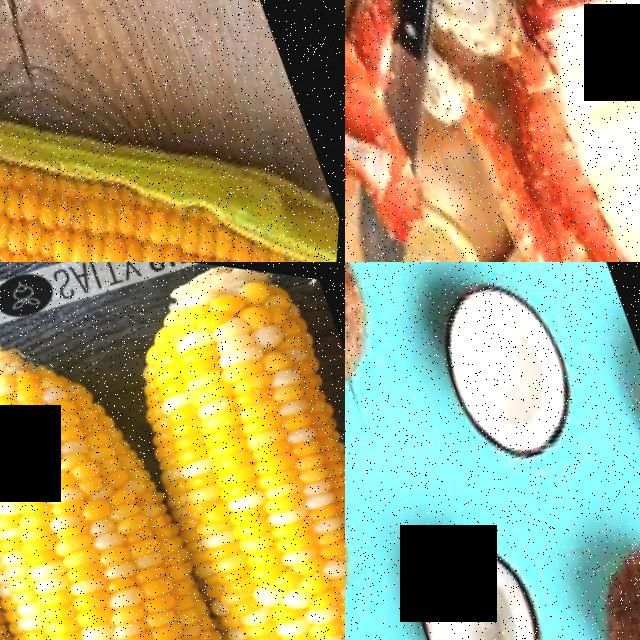coconut: (412, 262, 608, 480), (391, 501, 584, 640), (576, 501, 640, 640)
corn: (75, 262, 345, 640), (0, 297, 289, 640), (77, 91, 345, 262), (0, 29, 150, 262), (0, 331, 106, 640)
crab: (404, 0, 640, 262), (345, 0, 424, 244)
